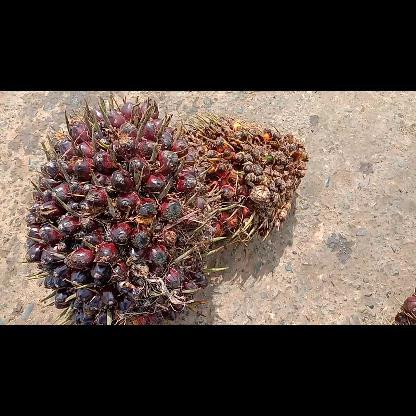Kurang masak: (20, 90, 228, 324)
TBS abnormal: (182, 112, 308, 242)
